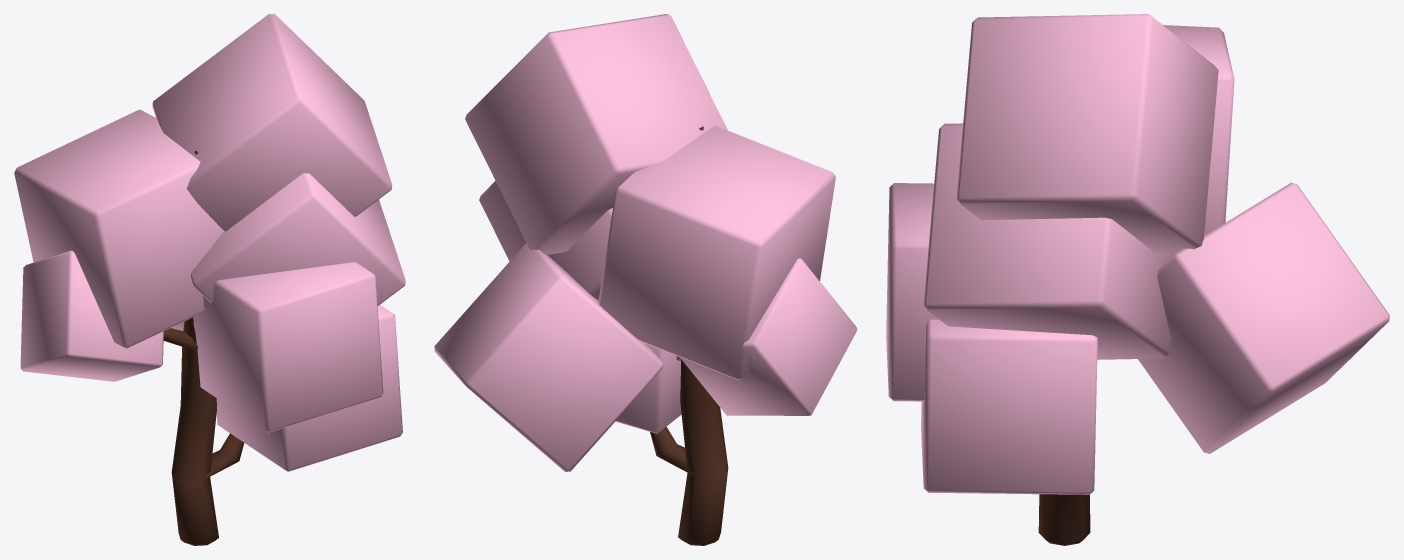
File: tree-b4.glb
The picture shows the model from 3 angles, left to right: view 1: azimuth 30°, elevation 25°; view 2: azimuth 150°, elevation 25°; view 3: azimuth 270°, elevation 25°; orthographic projection. The views are drawn at different scales.
Visible parts, largest first — view 1: tree-44.col; view 2: tree-44.col; view 3: tree-44.col.
Boxes of the visible parts, left/top/right/bottom form: tree-44.col: left=14, top=14, right=405, bottom=545; tree-44.col: left=434, top=14, right=857, bottom=545; tree-44.col: left=886, top=14, right=1389, bottom=545.
Bounding box in the file's own units: 1.09 × 1.48 × 1.15.
Materials: 1 (1 with a texture image).
